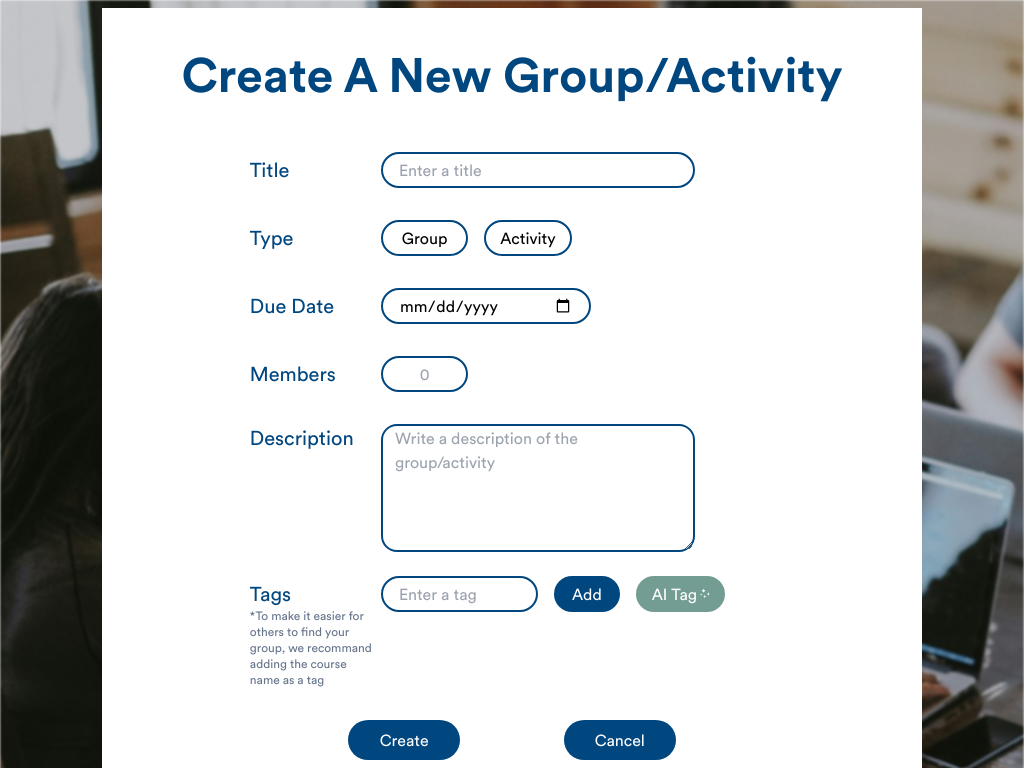
Test case: Create group Page test › Create group function wrong by not fill all fields
This screenshot has width=1024, height=768.
Type "732" into the field with placeholder "Enter a title" at (538, 170), box [381,152,695,188]
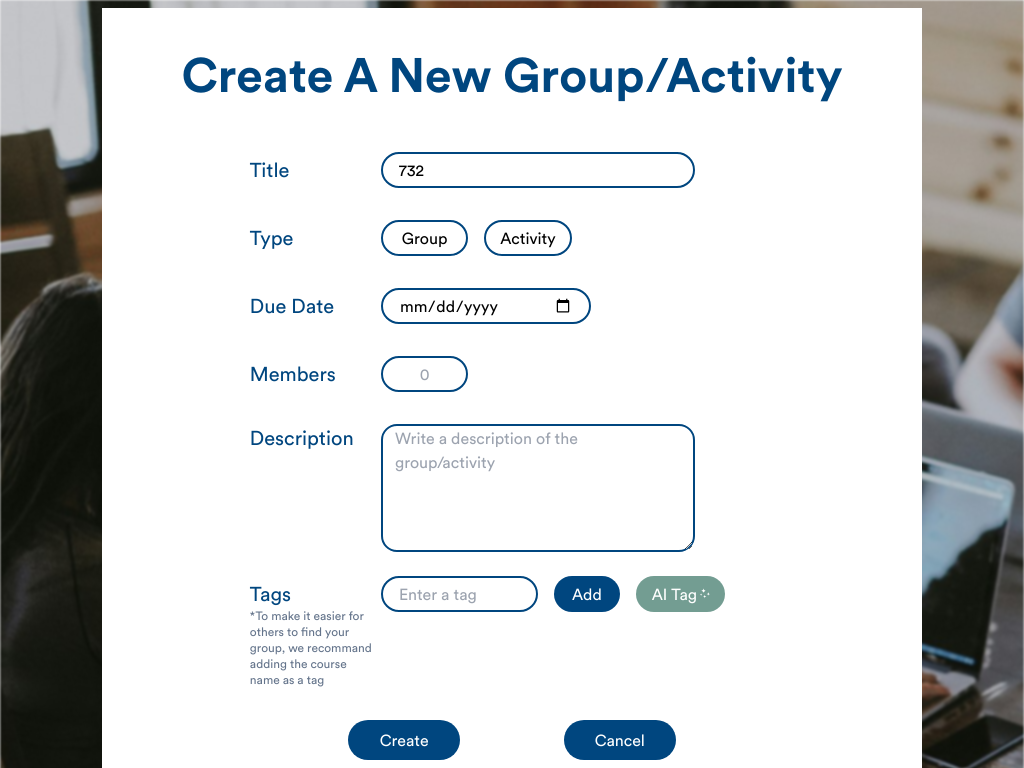
Click the button "Group" at (425, 238), box [381,220,468,256]
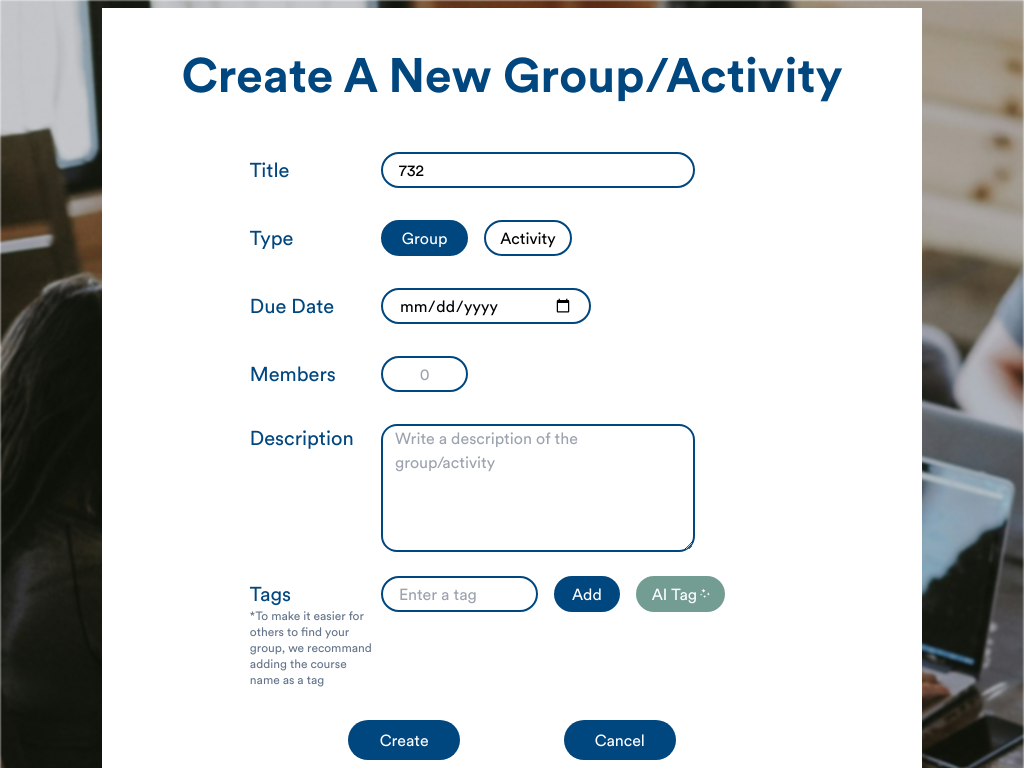
Click the button "Create" at (404, 740), box [348,720,460,760]
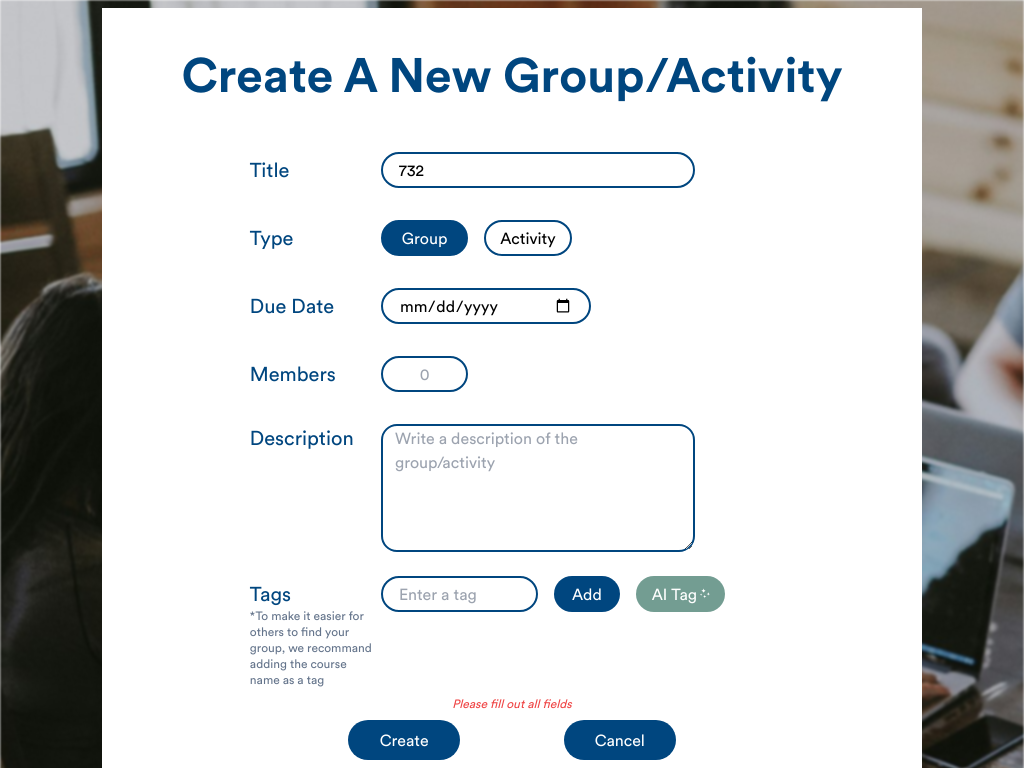
Expected: the text "Please fill out all fields" is shown, [452,696,572,711]
